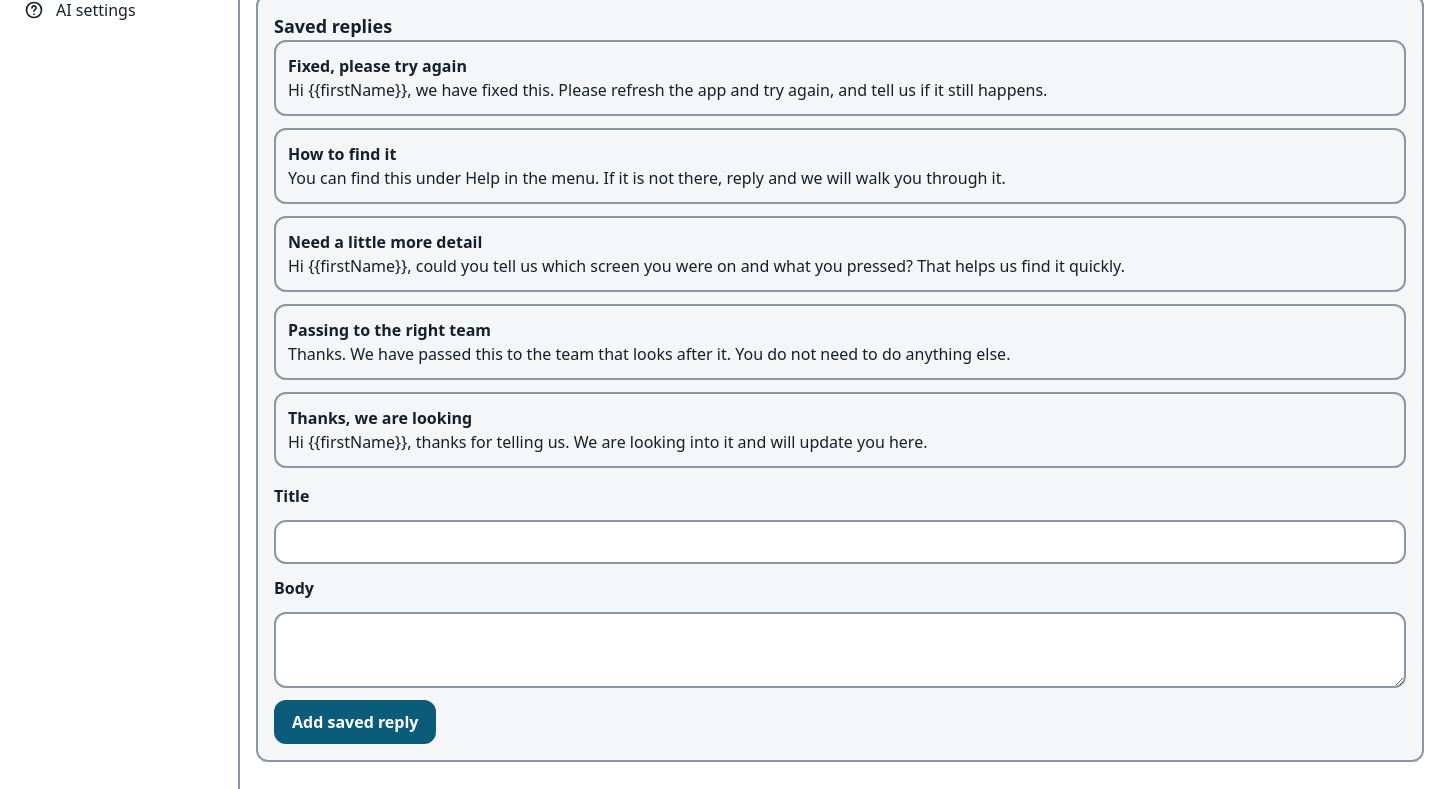
Test case: P13 Support settings › lists saved replies with title and the start of the body, and adds a new one
(page scrolled)
Expected: the list item with test id "saved-reply" shows "Fixed, please try again", x1=288 y1=55 x2=467 y2=77
Expected: the list item with test id "saved-reply" shows "Hi {{firstName}}, we have fixe", x1=288 y1=79 x2=1047 y2=101
Step 1. Type "Try again later" into the field labelled "Title" → (840, 542), box x1=274 y1=520 x2=1406 y2=564
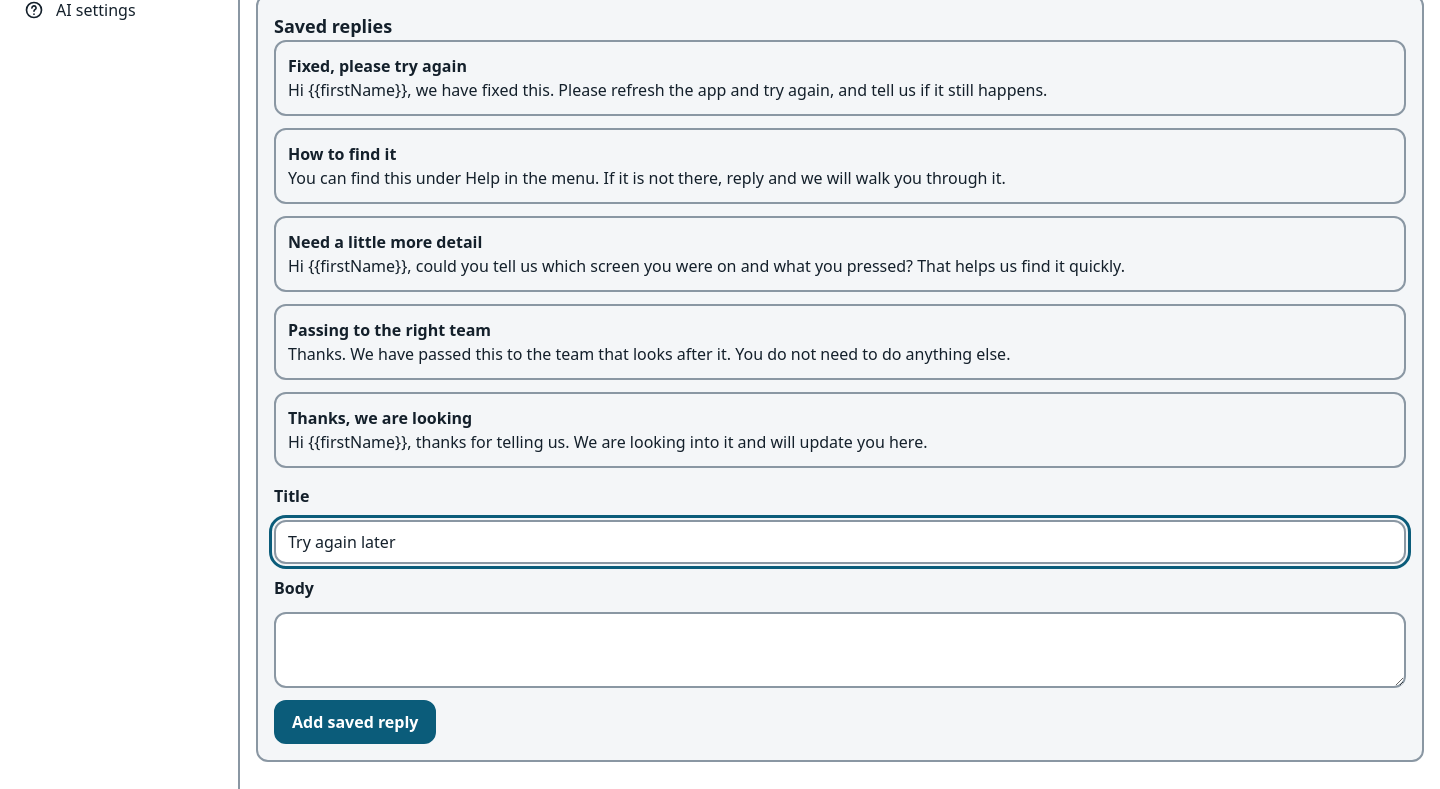
Step 2. Type "Hi, please try again in an hour." into the text box labelled "Body" → (840, 650), box x1=274 y1=612 x2=1406 y2=688
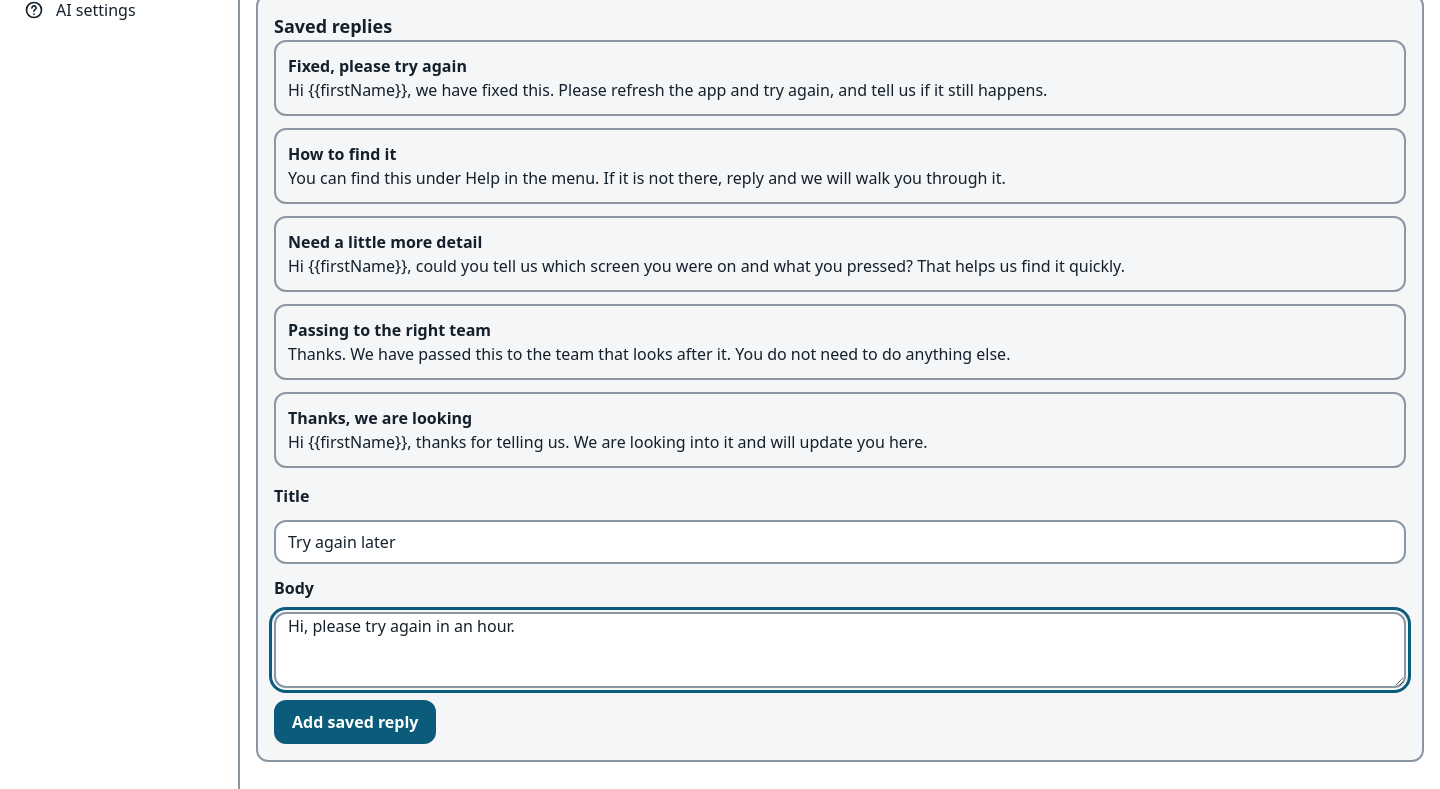
Step 3. Click the button "Add saved reply" → (355, 722), box x1=274 y1=700 x2=436 y2=744
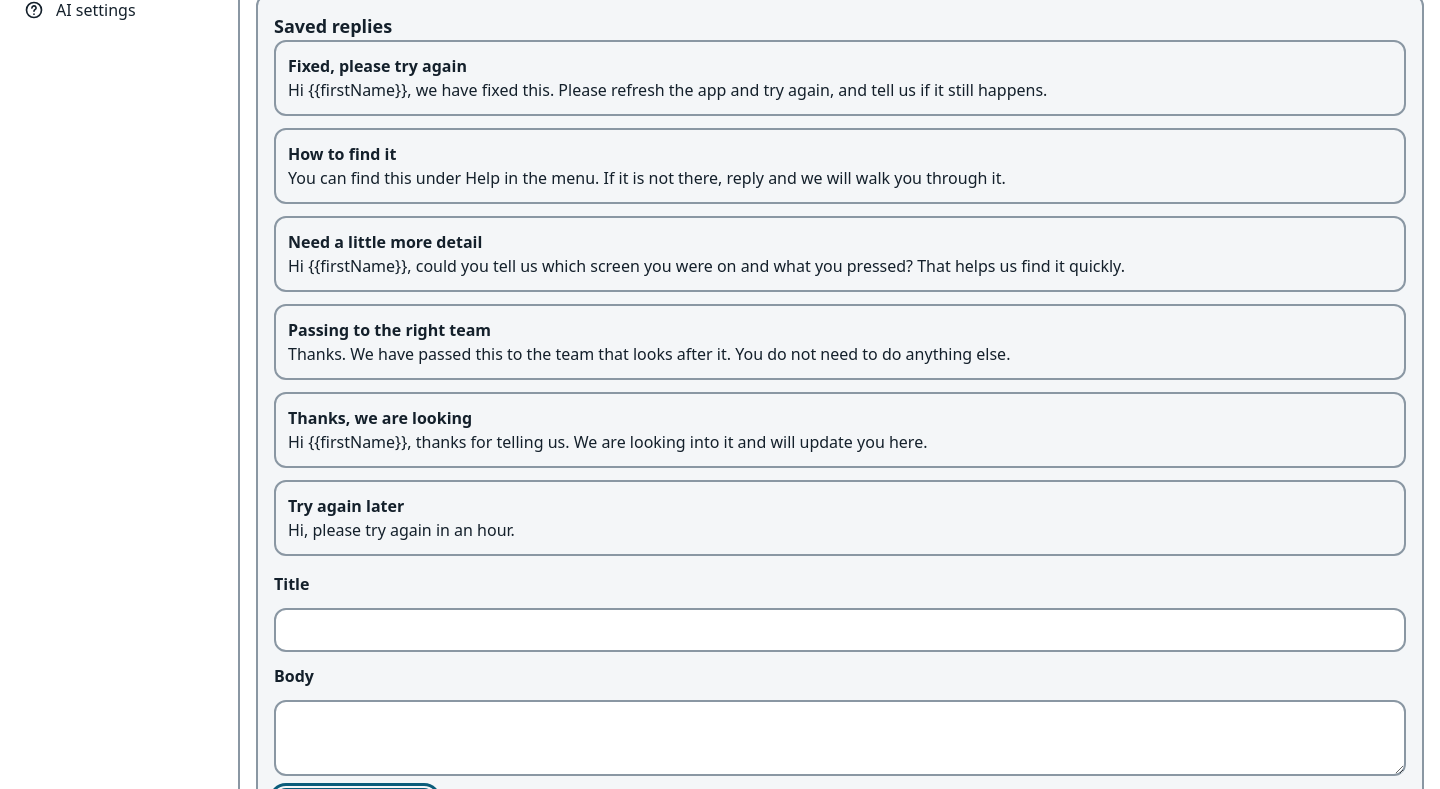
Expected: the number of list items with test id "saved-reply" is 6, x1=274 y1=40 x2=1406 y2=116; x1=274 y1=128 x2=1406 y2=204; x1=274 y1=216 x2=1406 y2=292; x1=274 y1=304 x2=1406 y2=380; x1=274 y1=392 x2=1406 y2=468; x1=274 y1=480 x2=1406 y2=556
Expected: the text "Hi, please try again in an hour." is shown, x1=288 y1=519 x2=515 y2=541
